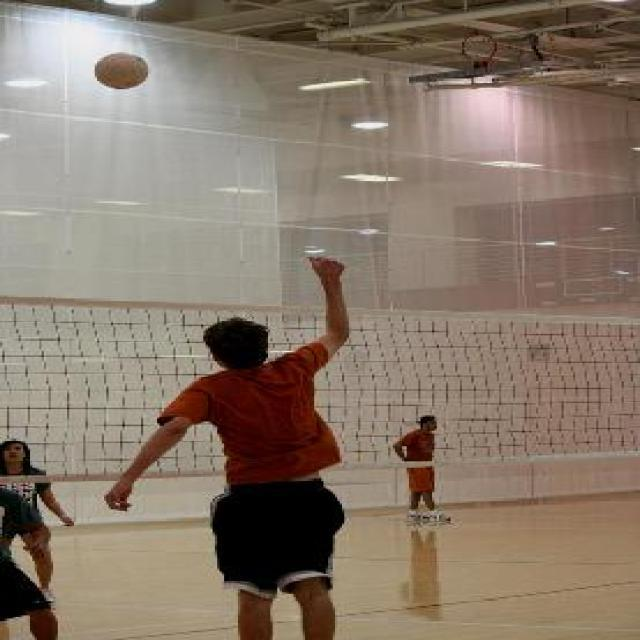volleyball: (97, 52, 148, 88)
